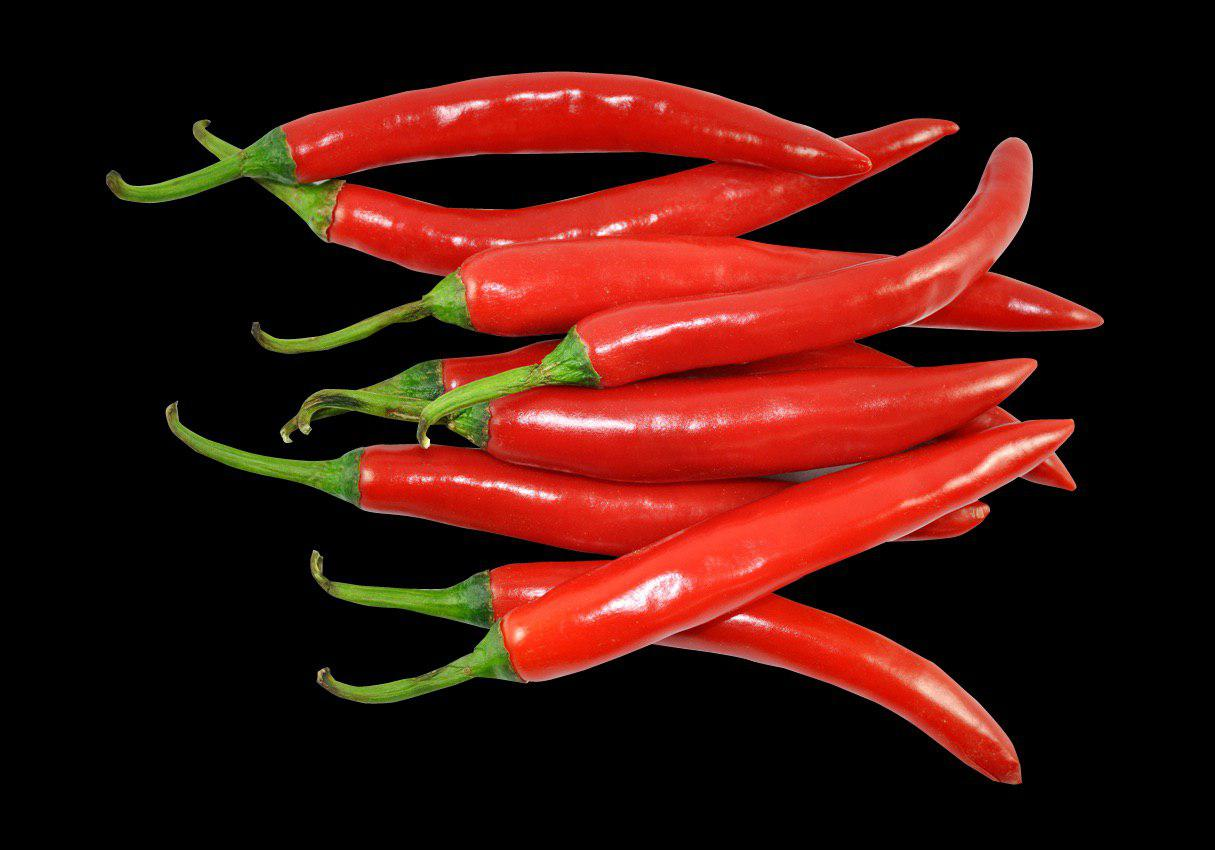lada merah: (474, 411, 1109, 707), (430, 548, 1041, 814), (559, 116, 1079, 394), (298, 99, 966, 294), (424, 335, 1067, 492), (407, 226, 1130, 361), (244, 61, 915, 195), (339, 437, 1006, 565)
